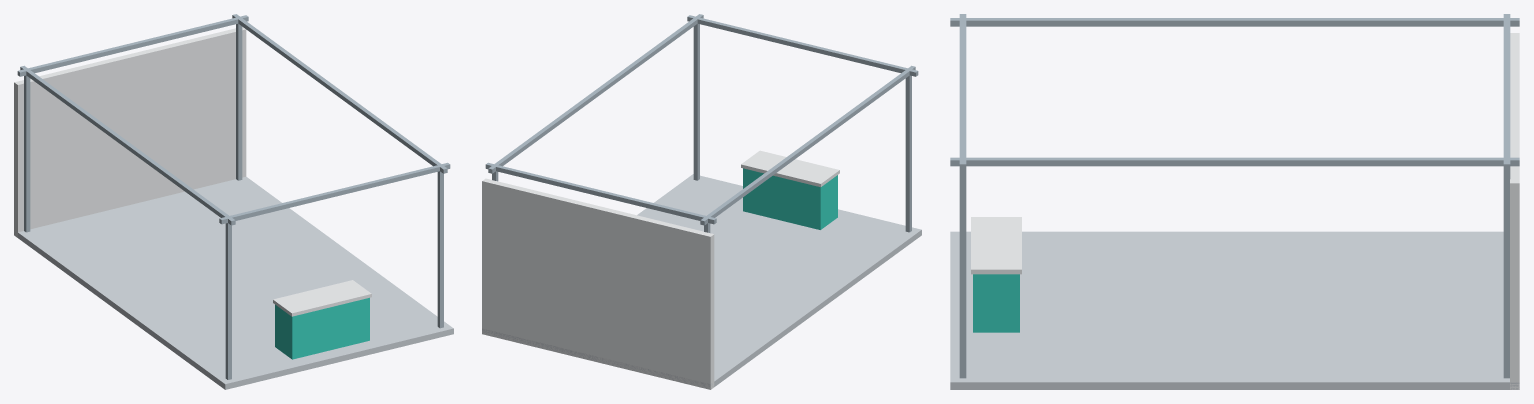
3 views of the same model, side by side, from view 1: azimuth 30°, elevation 25°; view 2: azimuth 150°, elevation 25°; view 3: azimuth 270°, elevation 25° (orthographic). The views are drawn at different scales.
Parts seen in each view (by area): view 1: Exhibition Booth Concept; view 2: Exhibition Booth Concept; view 3: Exhibition Booth Concept.
Boxes of the visible parts, x1,y1,x2,y2 form: Exhibition Booth Concept: (14, 14, 453, 389); Exhibition Booth Concept: (482, 14, 921, 389); Exhibition Booth Concept: (950, 14, 1519, 389).
Size of the model in its own units: 5 by 3.49 by 8.
